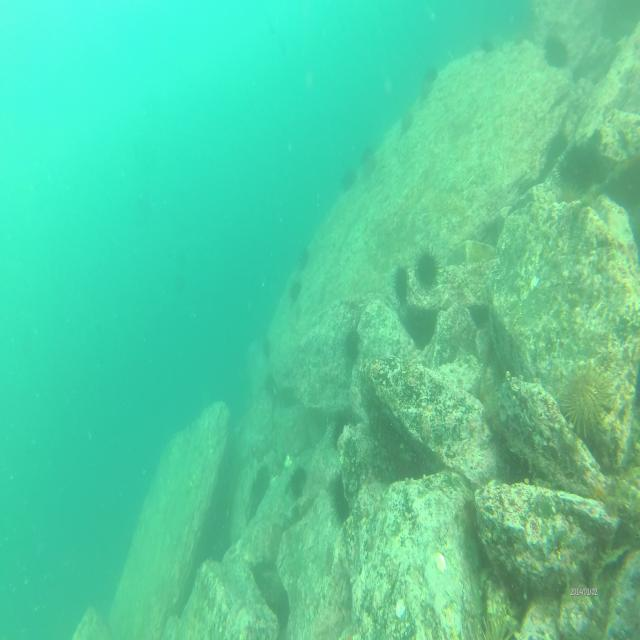echinus: (559, 362, 611, 439), (556, 134, 597, 196), (413, 243, 442, 290), (329, 468, 354, 522), (544, 32, 568, 69), (392, 263, 411, 303), (288, 464, 309, 500), (342, 326, 364, 360), (400, 106, 416, 134), (341, 163, 355, 192), (418, 78, 432, 102), (289, 276, 301, 301), (424, 61, 437, 84), (297, 249, 309, 269)
